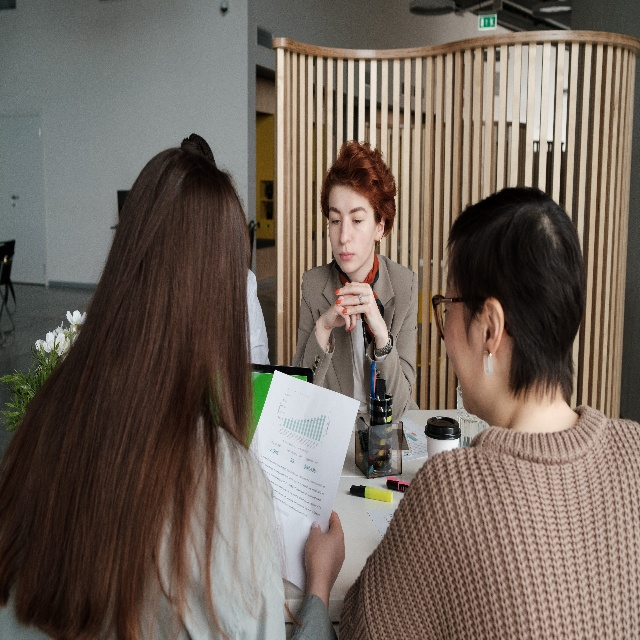Gafas: (431, 291, 465, 341)
Sin_guantes: (304, 507, 346, 596), (335, 281, 384, 336), (322, 280, 361, 333)
